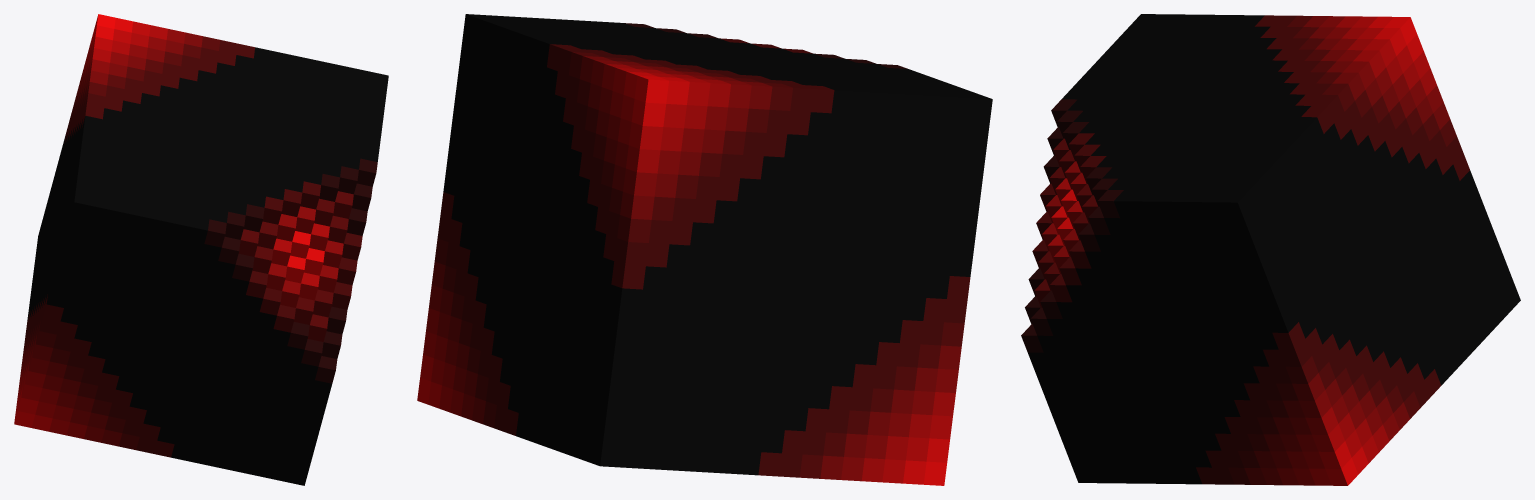
3 renders of one model, left to right at view 1: azimuth 30°, elevation 25°; view 2: azimuth 150°, elevation 25°; view 3: azimuth 270°, elevation 25°, orthographic. The views are drawn at different scales.
Parts seen in each view (by area): view 1: Object_2; view 2: Object_2; view 3: Object_2.
Part boxes in pixels (x1,y1,x2,y2): Object_2: [14, 14, 388, 485]; Object_2: [417, 14, 992, 485]; Object_2: [1021, 14, 1520, 485].
Size of the model in its own units: 0.6636 by 0.6534 by 0.6847.
Materials: 1 (1 with a texture image).
